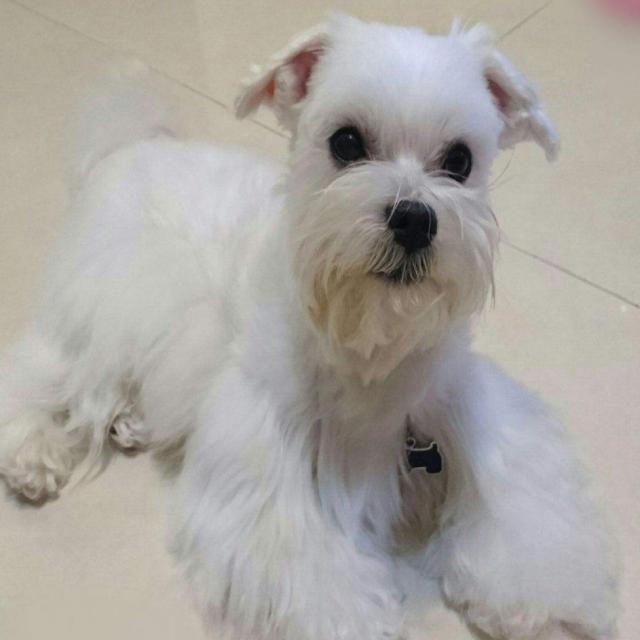eye: (328, 121, 370, 170), (440, 139, 474, 188)
